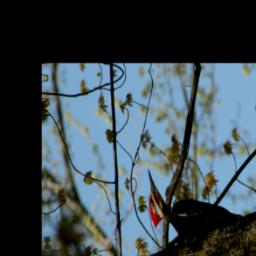Woodpecker: (146, 158, 245, 248)
